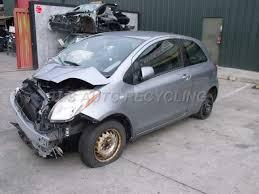bonnet-dent: (38, 57, 103, 89)
front-bumper-dent: (11, 109, 57, 153)
